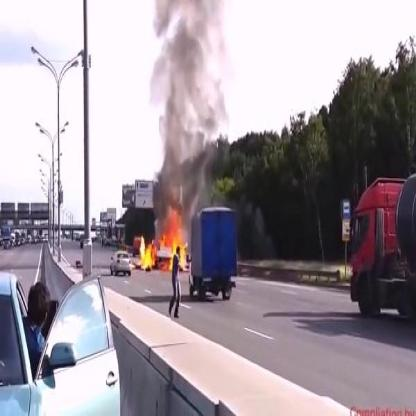fire: (138, 230, 155, 268), (171, 236, 187, 268), (160, 230, 166, 249)
